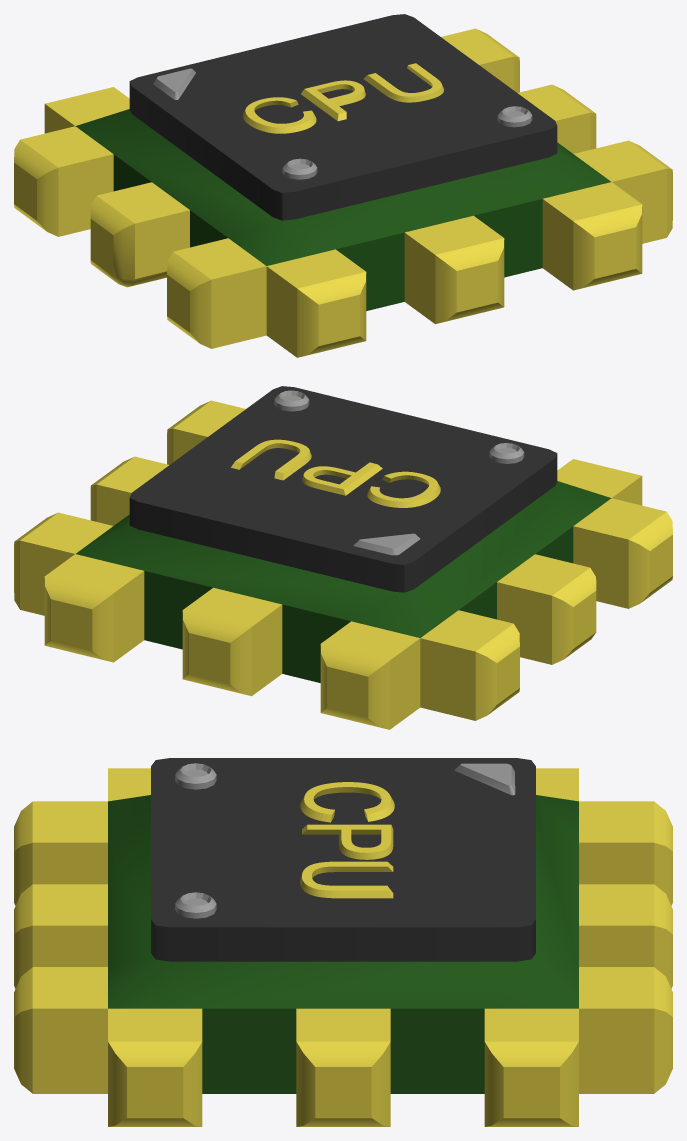
File: cpu.glb
3 views of the same model, one above another, from view 1: azimuth 30°, elevation 25°; view 2: azimuth 150°, elevation 25°; view 3: azimuth 270°, elevation 25° (orthographic). The views are drawn at different scales.
Visible parts, largest first — view 1: CPU Corner; view 2: CPU Corner; view 3: CPU Corner.
Part boxes in pixels (bbox=[...]): CPU Corner: bbox=[14, 14, 672, 357]; CPU Corner: bbox=[14, 386, 672, 729]; CPU Corner: bbox=[14, 758, 672, 1126].
Bounding box in the file's own units: 0.3144 × 0.0799 × 0.3019.
